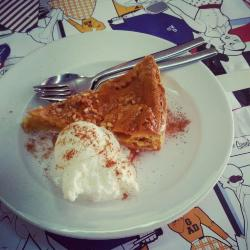apple_pie: (24, 63, 170, 153)
chantilly: (38, 114, 146, 207)
